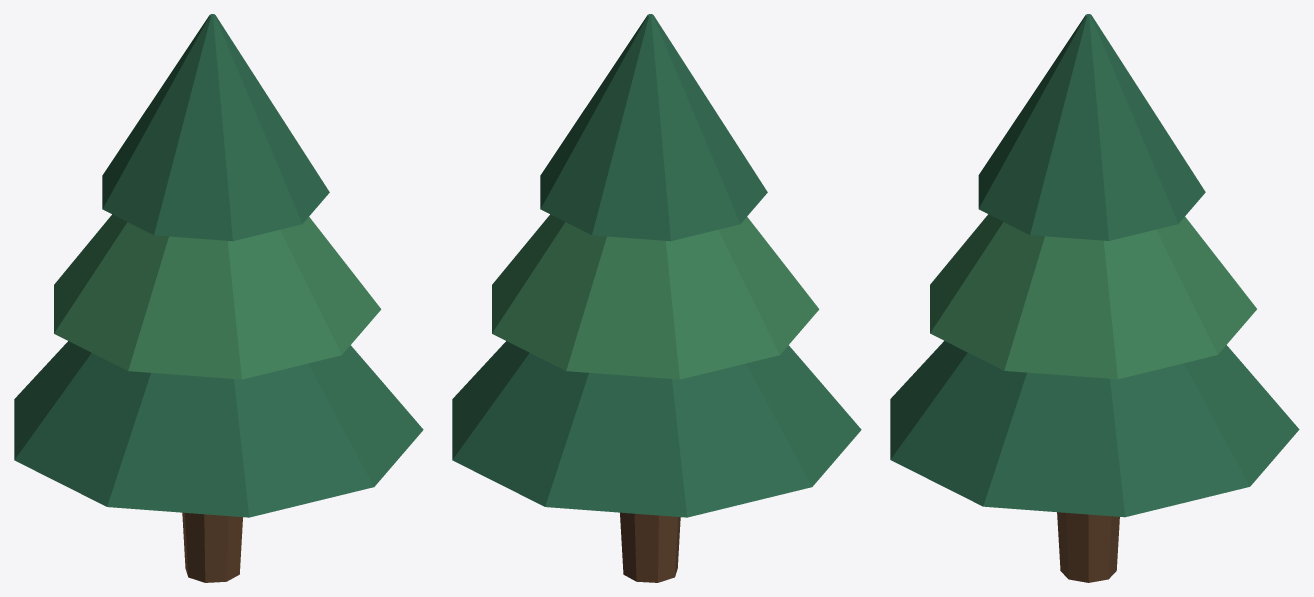
The model's file is tree_pine.glb.
3 views of the same model, side by side, from view 1: azimuth 30°, elevation 25°; view 2: azimuth 150°, elevation 25°; view 3: azimuth 270°, elevation 25° (orthographic).
Visible parts, largest first — view 1: tree_pine; view 2: tree_pine; view 3: tree_pine.
Part boxes in pixels (x1=…): tree_pine: x1=14, y1=14, x2=423, y2=582; tree_pine: x1=452, y1=14, x2=861, y2=582; tree_pine: x1=890, y1=14, x2=1299, y2=582.
Bounding box in the file's own units: 2.66 × 3.92 × 2.62.
